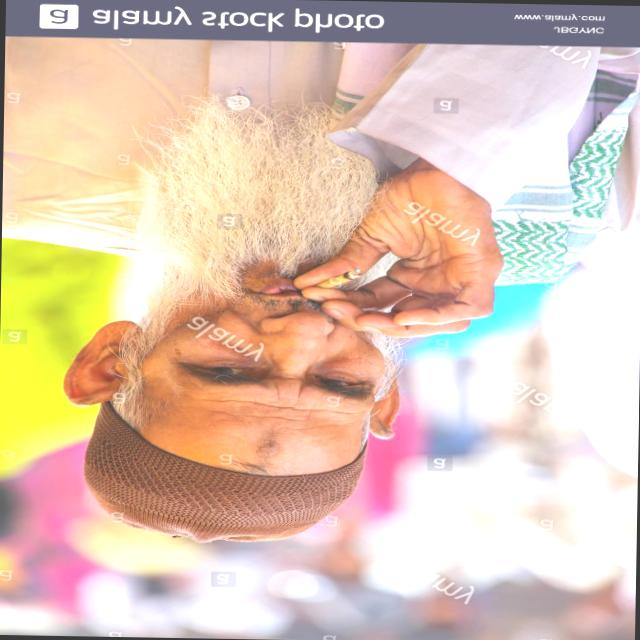cigarette: (301, 258, 380, 302)
